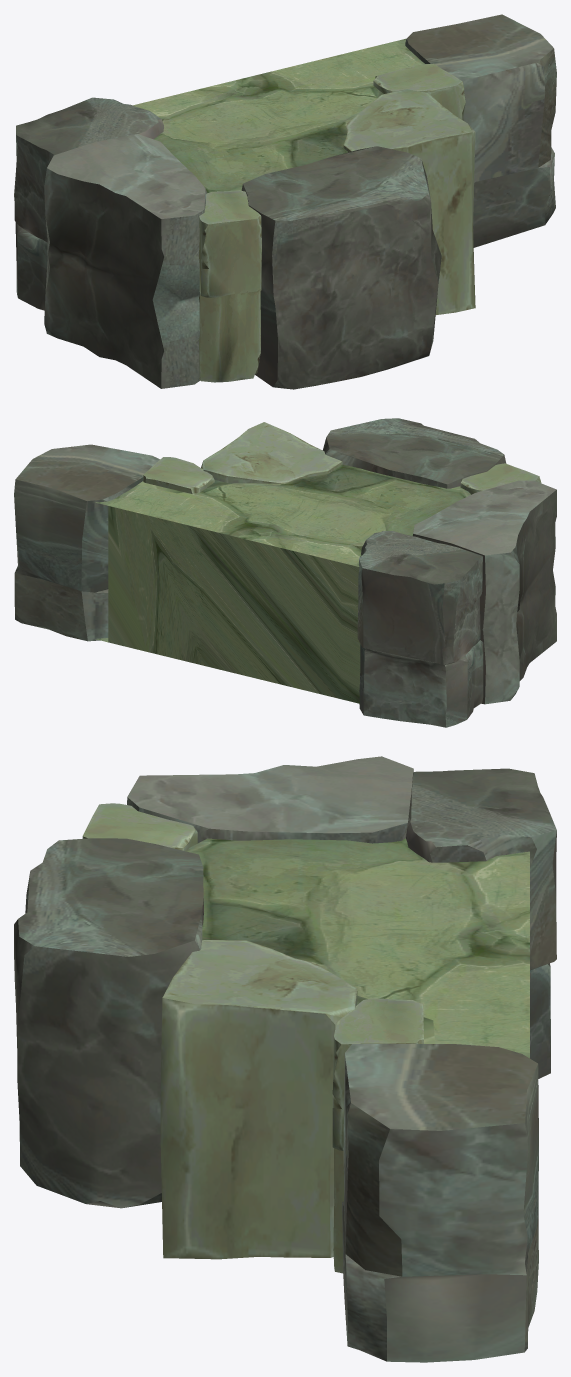
The model's file is Ruins_Wall_DMG_Top_8m_A.fbx.
The picture shows the model from 3 angles, top to bottom: view 1: azimuth 30°, elevation 25°; view 2: azimuth 150°, elevation 25°; view 3: azimuth 270°, elevation 25°; orthographic projection. The views are drawn at different scales.
Visible parts, largest first — view 1: Ruins_Wall_DMG_Top_8m_A; view 2: Ruins_Wall_DMG_Top_8m_A; view 3: Ruins_Wall_DMG_Top_8m_A.
Part boxes in pixels (x1,y1,x2,y2): Ruins_Wall_DMG_Top_8m_A: (14, 14, 556, 389); Ruins_Wall_DMG_Top_8m_A: (14, 418, 556, 727); Ruins_Wall_DMG_Top_8m_A: (14, 756, 556, 1362).
Size of the model in its own units: 892 by 290 by 552.
